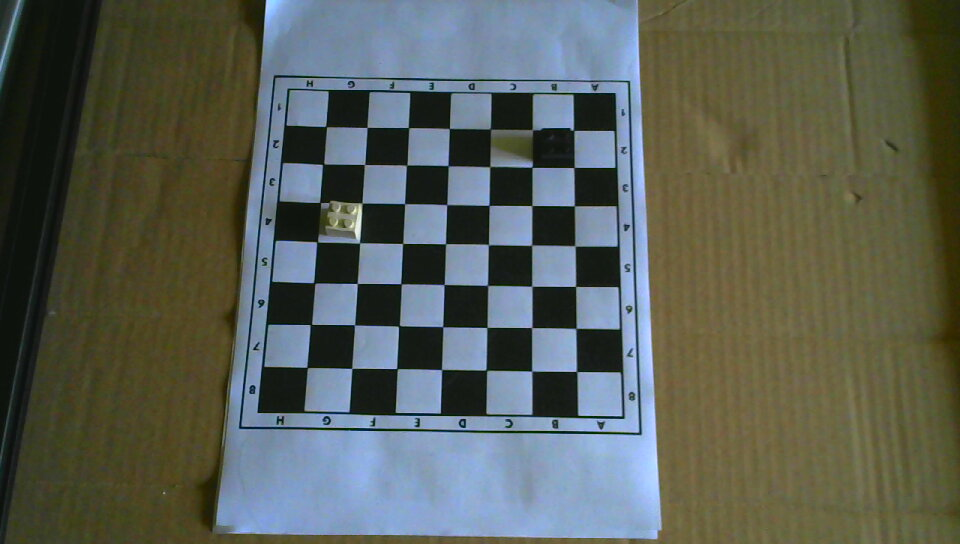bp: (539, 126, 574, 164)
wp: (324, 200, 362, 241)
